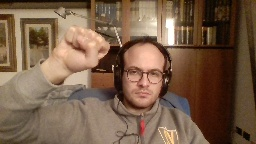Pugno: (52, 21, 111, 75)
